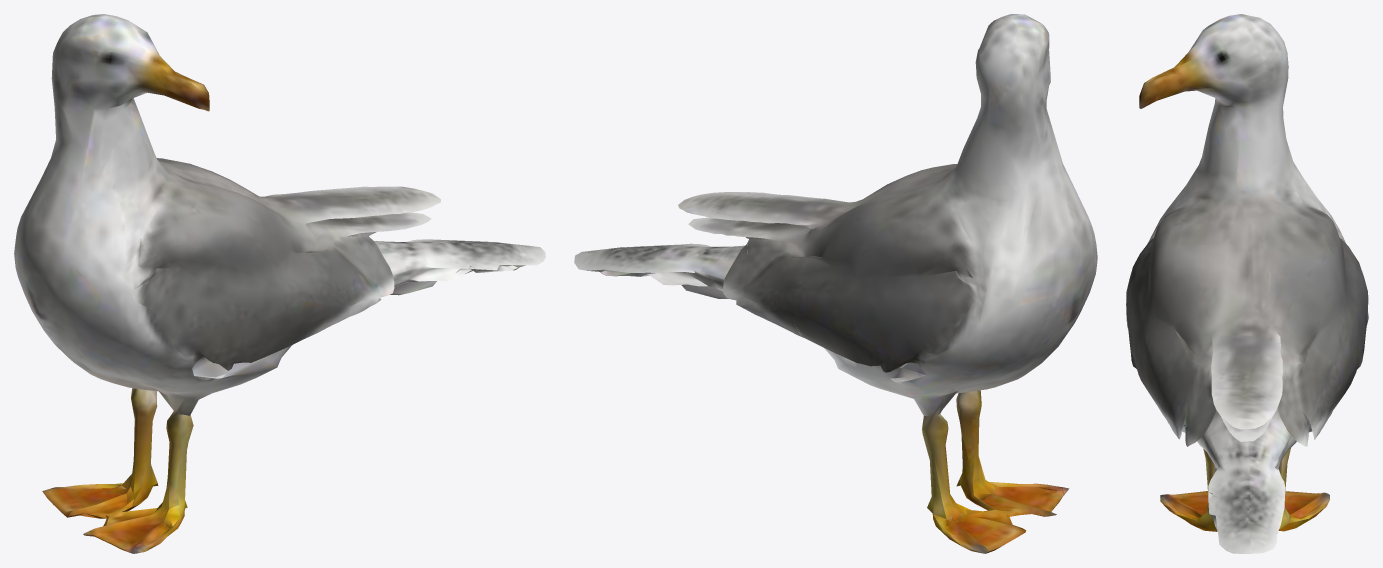
The model's file is gull.glb.
3 renders of one model, left to right at view 1: azimuth 30°, elevation 25°; view 2: azimuth 150°, elevation 25°; view 3: azimuth 270°, elevation 25°, orthographic. The views are drawn at different scales.
Visible parts, largest first — view 1: gull; view 2: gull; view 3: gull.
Part boxes in pixels (x1,y1,x2,y2): gull: (14, 14, 545, 553); gull: (574, 14, 1097, 553); gull: (1126, 14, 1368, 553).
Size of the model in its own units: 0.4264 by 0.4 by 0.1809.
1 material, 1 textured.
